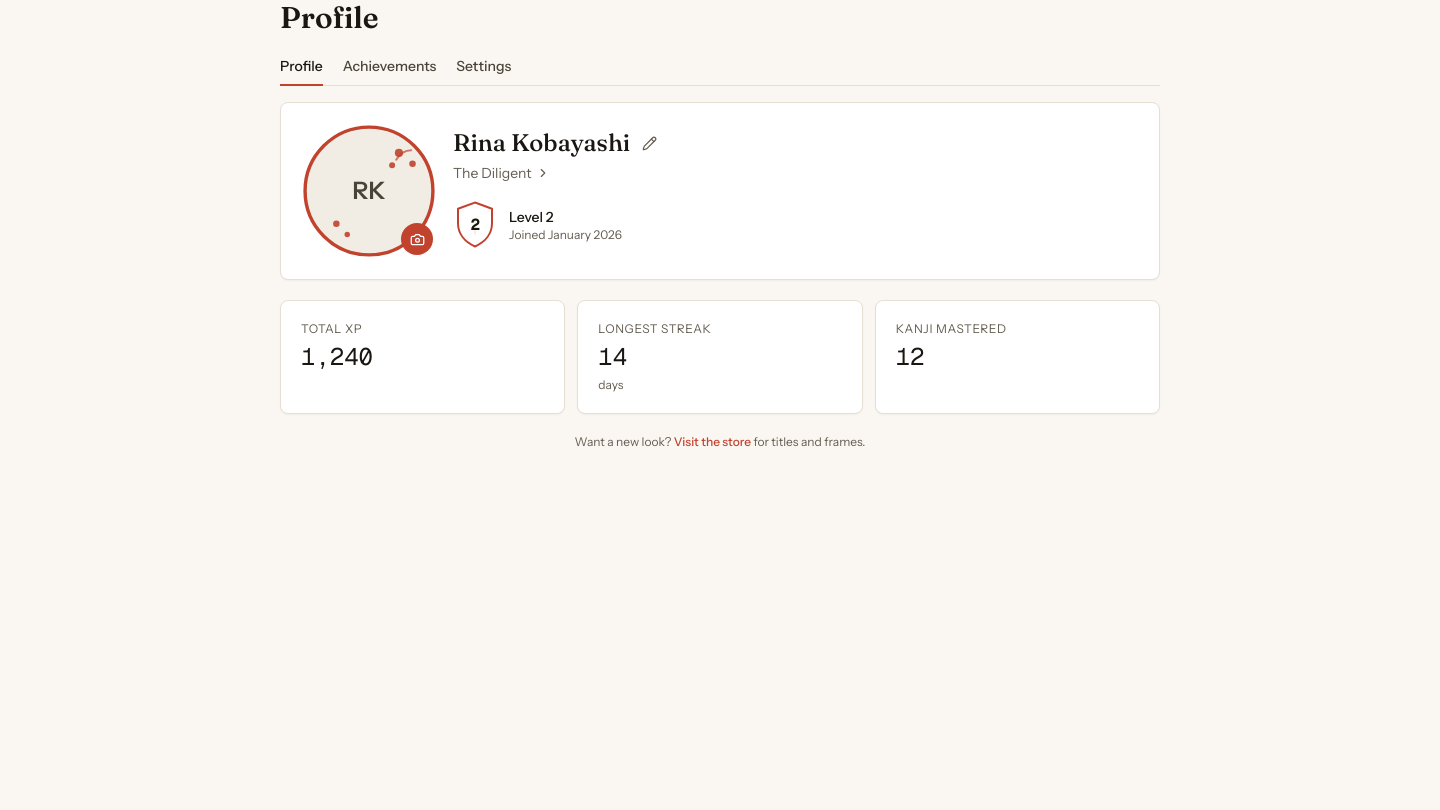
Scenario: Profile (§7.8) › lists all achievements and opens a locked achievement with progress
This screenshot has width=1440, height=810.
Click the tab "Achievements": {"x": 389, "y": 71} [343,56,436,86]
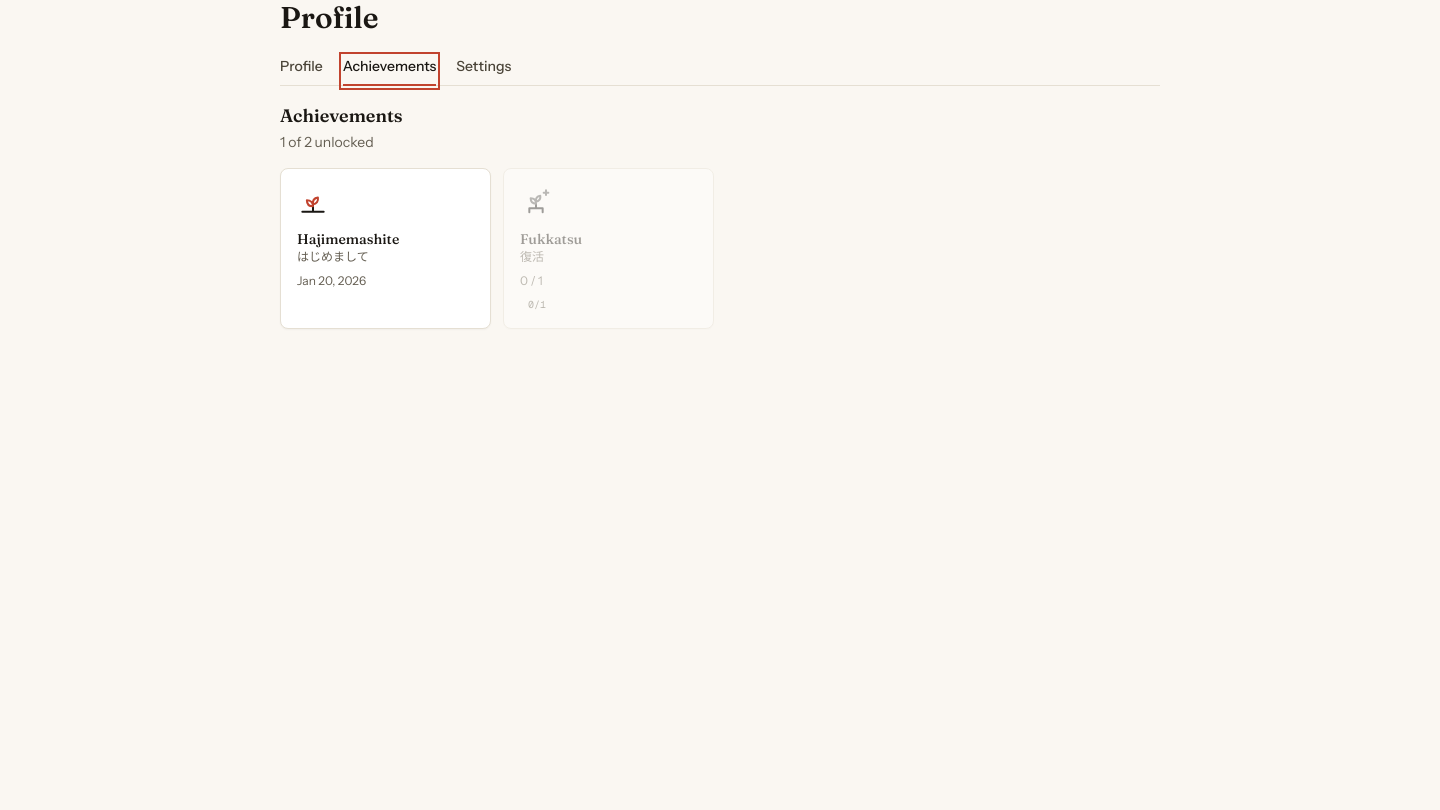
Result: the text "1 of 2 unlocked" is shown at [280,133,374,151]
Result: the text "Hajimemashite" is shown at [297,229,399,249]
Result: the text "はじめまして" is shown at [297,249,369,265]
Click the button "Fukkatsu 復活 0 / 1 0/1": {"x": 608, "y": 248} [503,168,714,329]
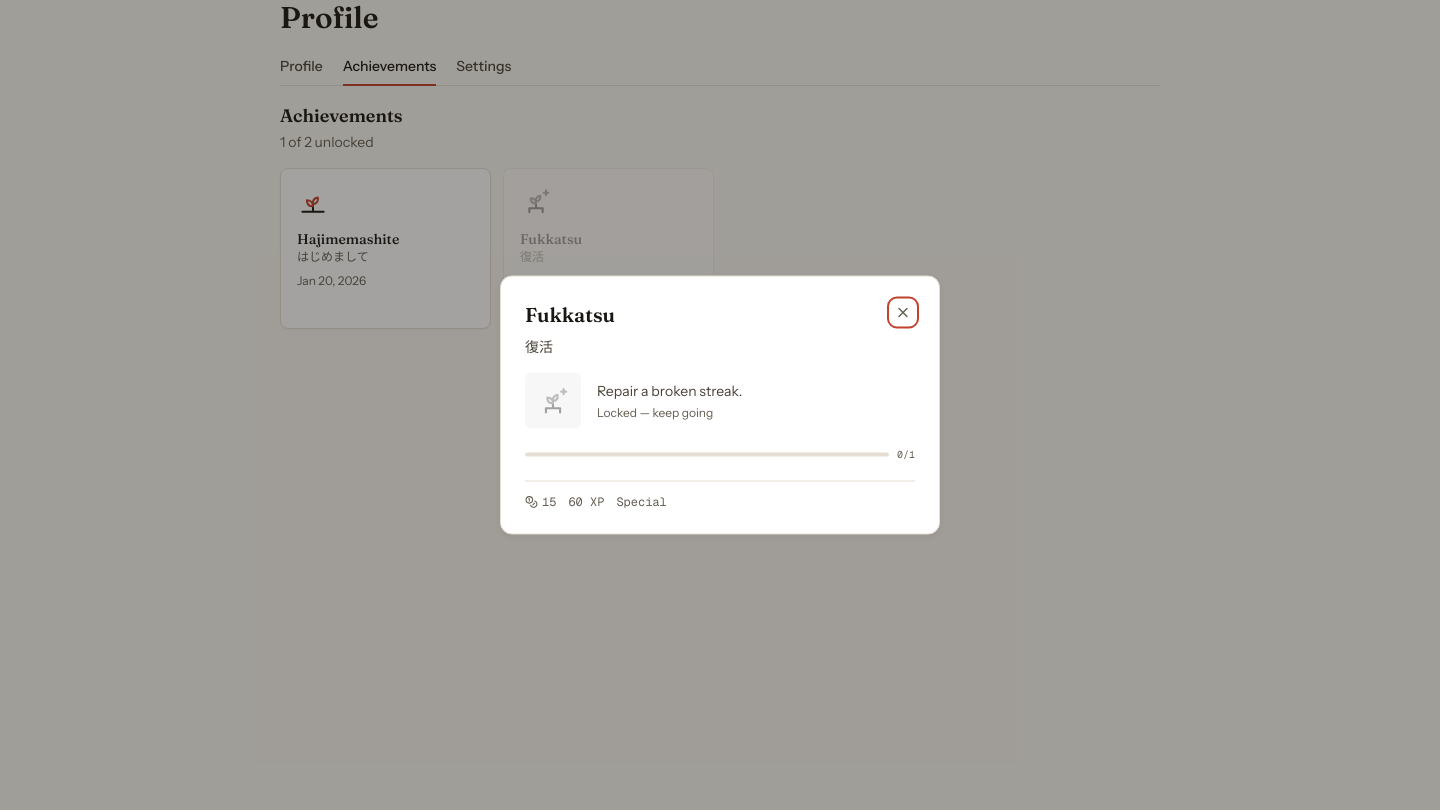
Result: the text "Repair a broken streak." is shown at [597,380,742,400]
Result: the text "Locked — keep going" is shown at [597,404,713,420]
Result: the text "0/1" is shown at [897,444,915,464]
